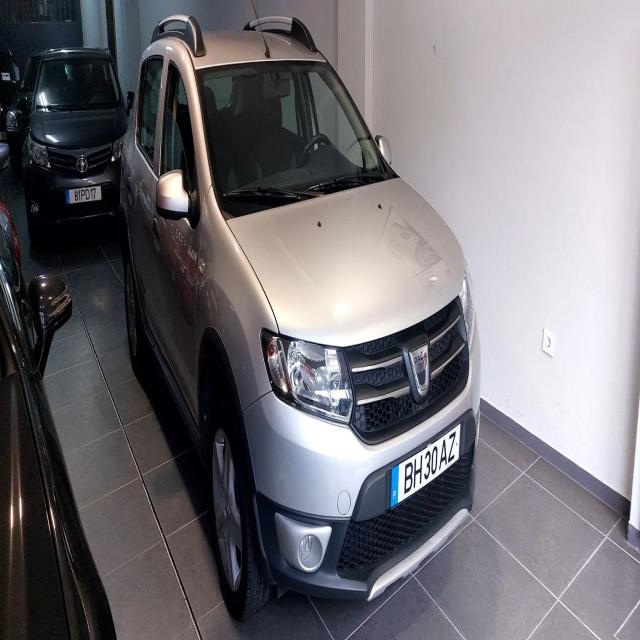portuguese-license-plates: (389, 415, 463, 519)
